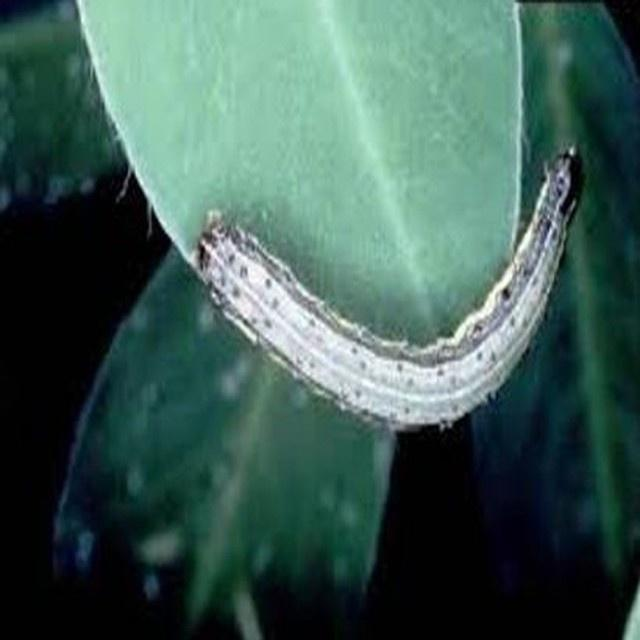gusano_cogollero: (197, 142, 586, 430)
